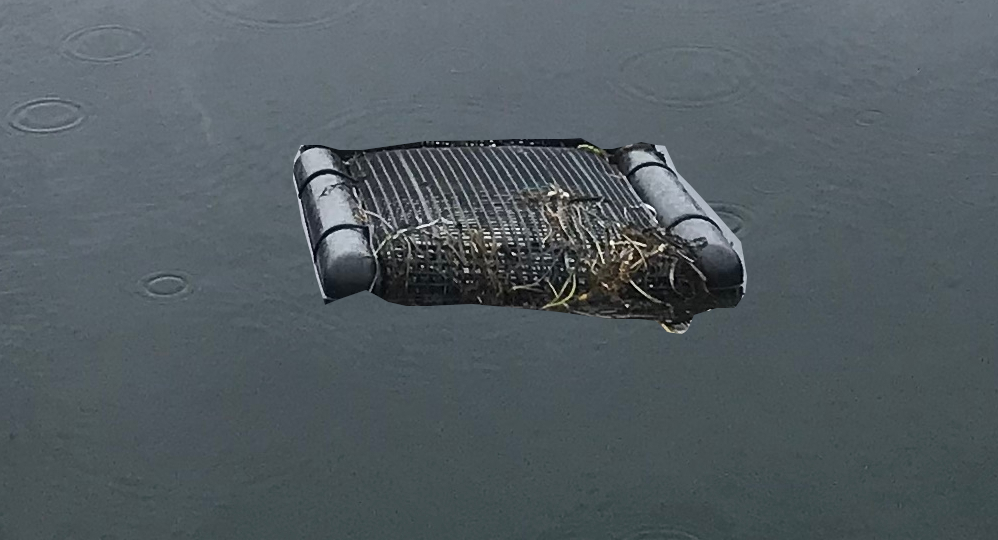bag: (293, 138, 749, 334)
